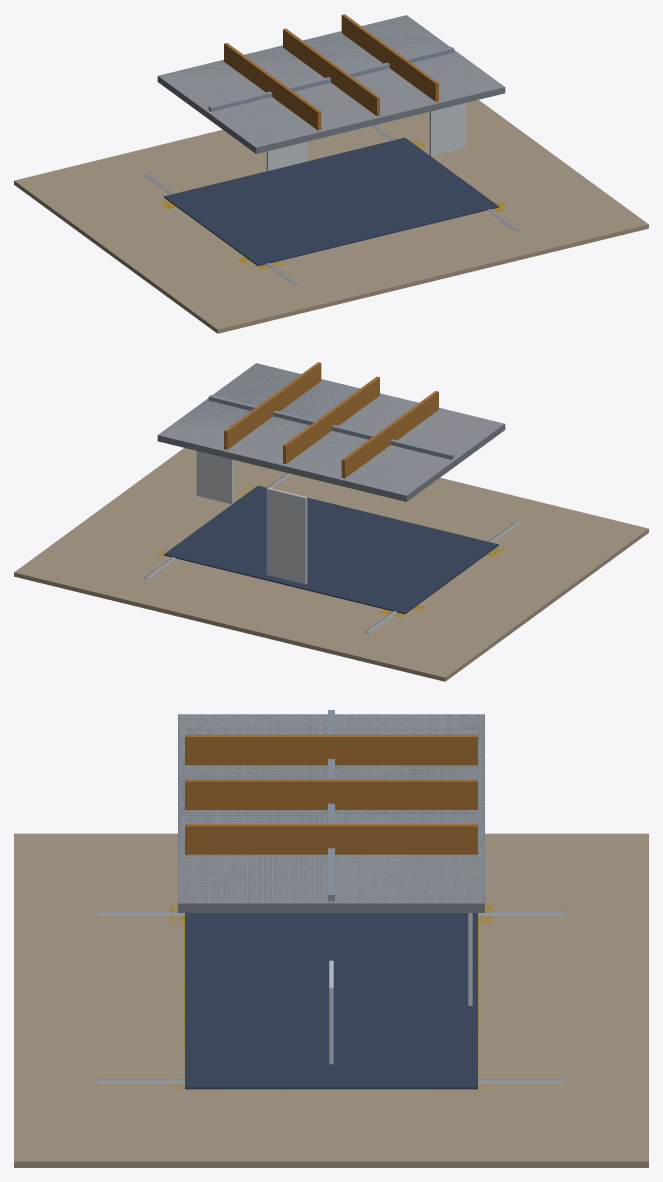
File: stage_09_roof_structure.glb
3 views of the same model, one above another, from view 1: azimuth 30°, elevation 25°; view 2: azimuth 150°, elevation 25°; view 3: azimuth 270°, elevation 25° (orthographic). The views are drawn at different scales.
Parts seen in each view (by area): view 1: world; view 2: world; view 3: world.
Boxes of the visible parts, x1,y1,x2,y2 form: world: [14, 14, 648, 333]; world: [14, 362, 648, 681]; world: [14, 710, 648, 1167].
Size of the model in its own units: 11 by 4.2 by 9.
